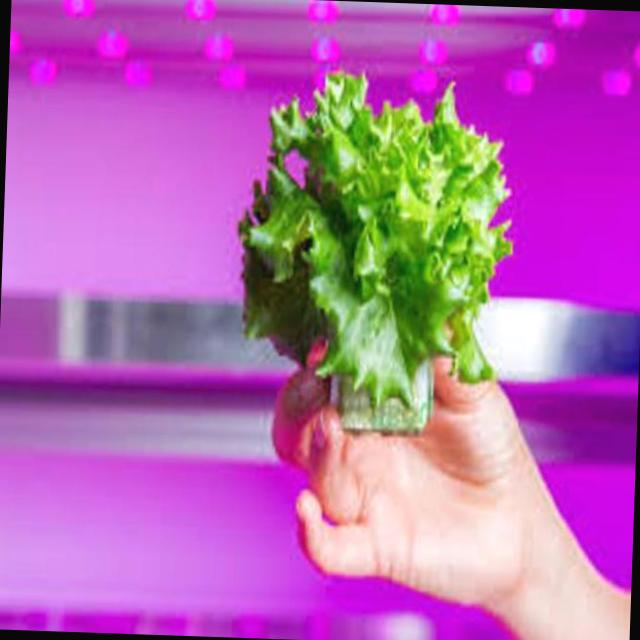Lettuce-Ready-to-Harvest: (238, 74, 510, 432)
